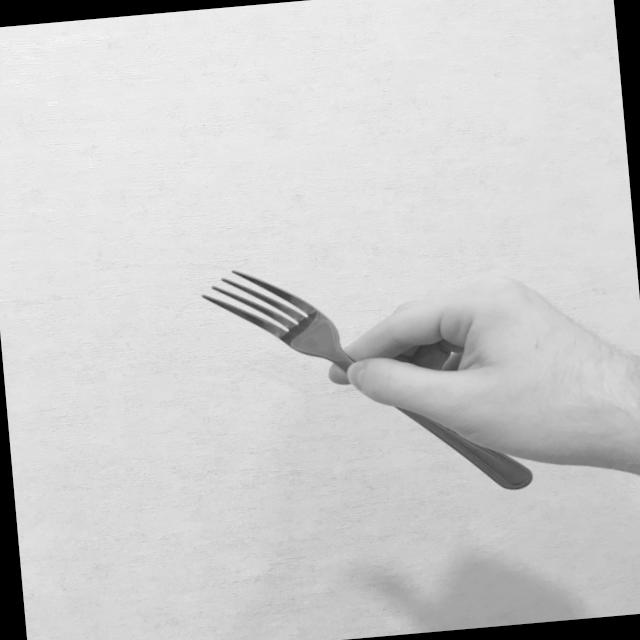fork: (197, 243, 537, 514)
